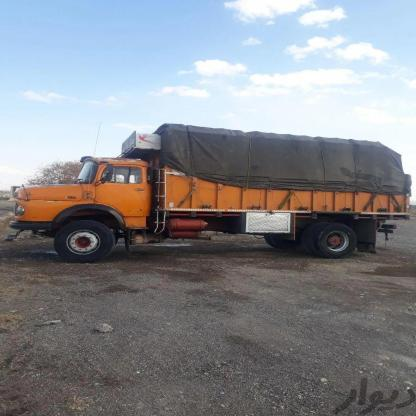Truck: (13, 121, 415, 260)
